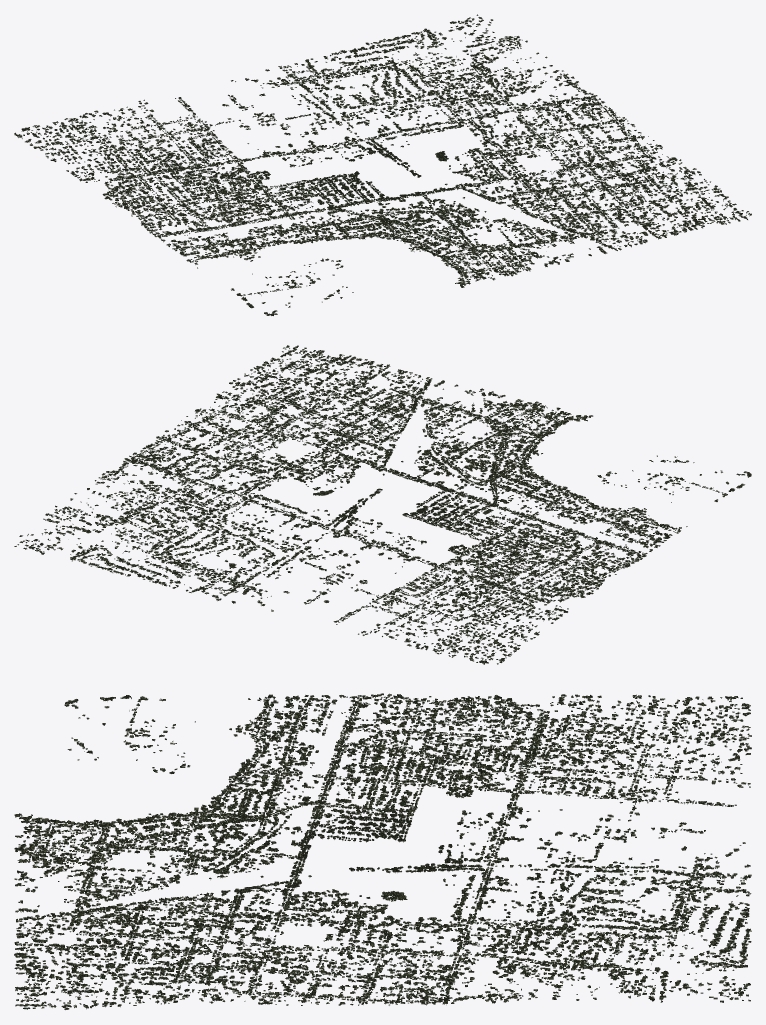
File: mars_backdrop_part2.glb
3 renders of one model, top to bottom at view 1: azimuth 30°, elevation 25°; view 2: azimuth 150°, elevation 25°; view 3: azimuth 270°, elevation 25°, orthographic. The views are drawn at different scales.
Parts seen in each view (by area): view 1: bg_trees_joined_s15, bg_trees_joined_s11, bg_trees_joined_s10, bg_trees_joined_s12, bg_trees_joined_s13, bg_trees_joined_s08, bg_trees_joined_s09, bg_trees_joined_s14, bg_trees_joined_s00, bg_trees_joined_s01, bg_trees_joined_s03, bg_trees_joined_s07 (+4 smaller); view 2: bg_trees_joined_s15, bg_trees_joined_s11, bg_trees_joined_s10, bg_trees_joined_s12, bg_trees_joined_s13, bg_trees_joined_s08, bg_trees_joined_s14, bg_trees_joined_s09, bg_trees_joined_s00, bg_trees_joined_s01, bg_trees_joined_s07, bg_trees_joined_s03 (+4 smaller); view 3: bg_trees_joined_s15, bg_trees_joined_s11, bg_trees_joined_s10, bg_trees_joined_s12, bg_trees_joined_s13, bg_trees_joined_s08, bg_trees_joined_s09, bg_trees_joined_s14, bg_trees_joined_s00, bg_trees_joined_s01, bg_trees_joined_s07, bg_trees_joined_s03 (+4 smaller).
Boxes of the visible parts, x1=… form: bg_trees_joined_s15: x1=14, y1=132, x2=272, y2=228; bg_trees_joined_s11: x1=493, y1=114, x2=751, y2=216; bg_trees_joined_s10: x1=447, y1=188, x2=747, y2=272; bg_trees_joined_s12: x1=417, y1=17, x2=615, y2=145; bg_trees_joined_s13: x1=254, y1=14, x2=479, y2=127; bg_trees_joined_s08: x1=146, y1=200, x2=350, y2=315; bg_trees_joined_s09: x1=312, y1=220, x2=517, y2=302; bg_trees_joined_s14: x1=21, y1=78, x2=315, y2=159; bg_trees_joined_s00: x1=274, y1=179, x2=374, y2=224; bg_trees_joined_s01: x1=351, y1=187, x2=446, y2=226; bg_trees_joined_s03: x1=406, y1=145, x2=510, y2=187; bg_trees_joined_s07: x1=255, y1=164, x2=359, y2=200; bg_trees_joined_s15: x1=429, y1=532, x2=634, y2=664; bg_trees_joined_s11: x1=155, y1=345, x2=356, y2=474; bg_trees_joined_s10: x1=293, y1=345, x2=532, y2=455; bg_trees_joined_s12: x1=19, y1=443, x2=278, y2=543; bg_trees_joined_s13: x1=14, y1=519, x2=322, y2=603; bg_trees_joined_s08: x1=507, y1=470, x2=751, y2=561; bg_trees_joined_s14: x1=260, y1=554, x2=491, y2=664; bg_trees_joined_s09: x1=460, y1=401, x2=694, y2=488; bg_trees_joined_s00: x1=416, y1=489, x2=524, y2=531; bg_trees_joined_s01: x1=424, y1=455, x2=519, y2=501; bg_trees_joined_s07: x1=402, y1=509, x2=507, y2=554; bg_trees_joined_s03: x1=280, y1=452, x2=382, y2=498; bg_trees_joined_s15: x1=381, y1=693, x2=742, y2=798; bg_trees_joined_s11: x1=23, y1=907, x2=384, y2=1010; bg_trees_joined_s10: x1=14, y1=850, x2=255, y2=1006; bg_trees_joined_s12: x1=381, y1=904, x2=738, y2=1005; bg_trees_joined_s13: x1=511, y1=853, x2=751, y2=1001; bg_trees_joined_s08: x1=64, y1=693, x2=384, y2=798; bg_trees_joined_s09: x1=14, y1=737, x2=260, y2=853; bg_trees_joined_s14: x1=509, y1=703, x2=751, y2=854; bg_trees_joined_s00: x1=265, y1=778, x2=383, y2=842; bg_trees_joined_s01: x1=210, y1=800, x2=350, y2=852; bg_trees_joined_s07: x1=381, y1=778, x2=472, y2=842; bg_trees_joined_s03: x1=265, y1=867, x2=383, y2=922.
Bounding box in the file's own units: 3011 × 77.96 × 3009.
1 material, 1 textured.
